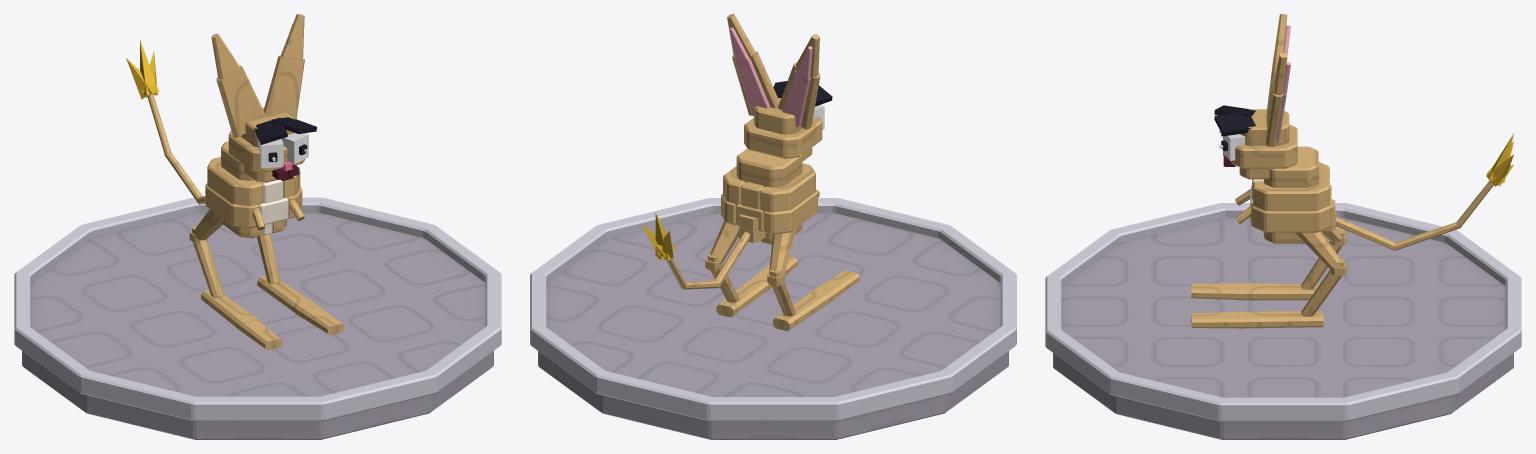
The model's file is JumpJerboa.fbx.
3 views of the same model, side by side, from view 1: azimuth 30°, elevation 25°; view 2: azimuth 150°, elevation 25°; view 3: azimuth 270°, elevation 25° (orthographic). The views are drawn at different scales.
Visible parts, largest first — view 1: Art_JumpJerboa_Stand, Art_JumpJerboa_Body, Art_JumpJerboa_Head, Art_JumpJerboa_Tail; view 2: Art_JumpJerboa_Stand, Art_JumpJerboa_Body, Art_JumpJerboa_Head, Art_JumpJerboa_Tail; view 3: Art_JumpJerboa_Stand, Art_JumpJerboa_Body, Art_JumpJerboa_Head, Art_JumpJerboa_Tail.
Part boxes in pixels (x1,y1,x2,y2): Art_JumpJerboa_Stand: (14,197,501,439); Art_JumpJerboa_Body: (189,141,344,350); Art_JumpJerboa_Head: (211,14,316,182); Art_JumpJerboa_Tail: (126,40,205,204); Art_JumpJerboa_Stand: (530,198,1016,439); Art_JumpJerboa_Body: (705,148,859,331); Art_JumpJerboa_Head: (727,14,832,161); Art_JumpJerboa_Tail: (642,213,765,289); Art_JumpJerboa_Stand: (1045,203,1521,439); Art_JumpJerboa_Body: (1191,146,1346,328); Art_JumpJerboa_Head: (1214,14,1297,179); Art_JumpJerboa_Tail: (1321,133,1513,250).
Bounding box in the file's own units: 2.99 × 2.15 × 2.99.
